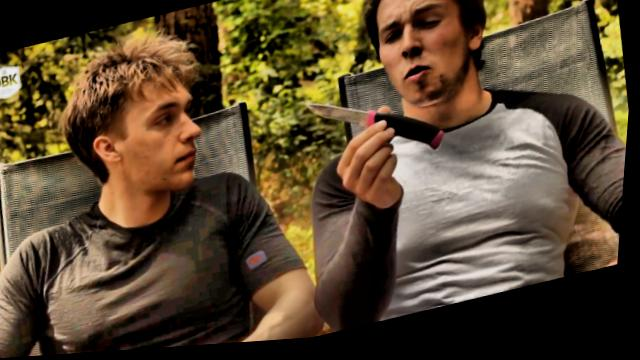knife: (294, 69, 461, 195)
